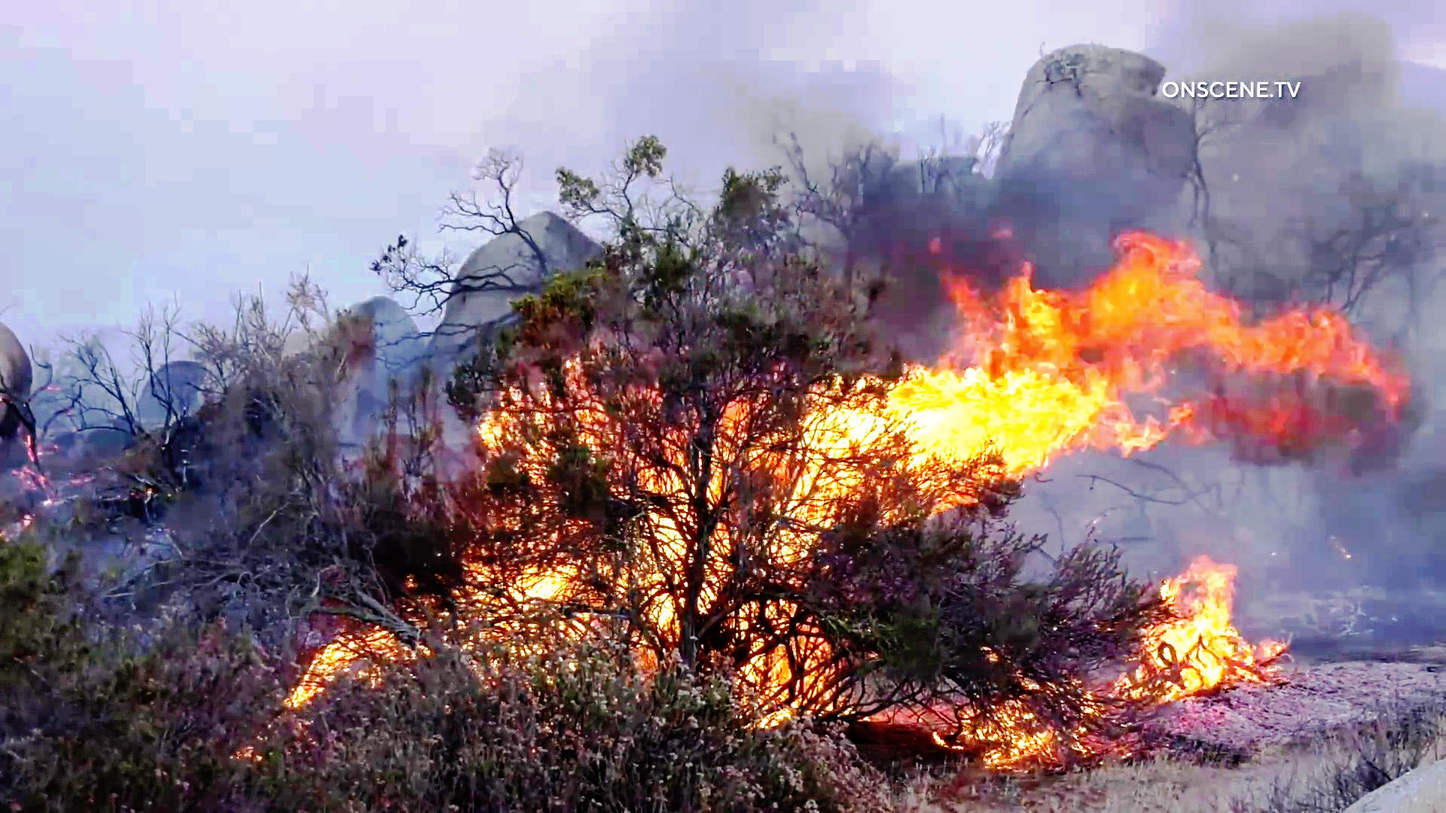fire: (904, 258, 1407, 493)
